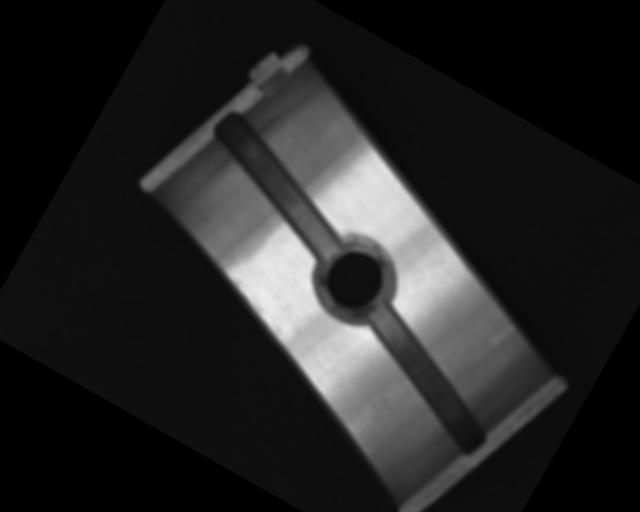gap: (330, 298, 520, 459), (185, 109, 370, 264)
hole: (304, 228, 405, 332)
